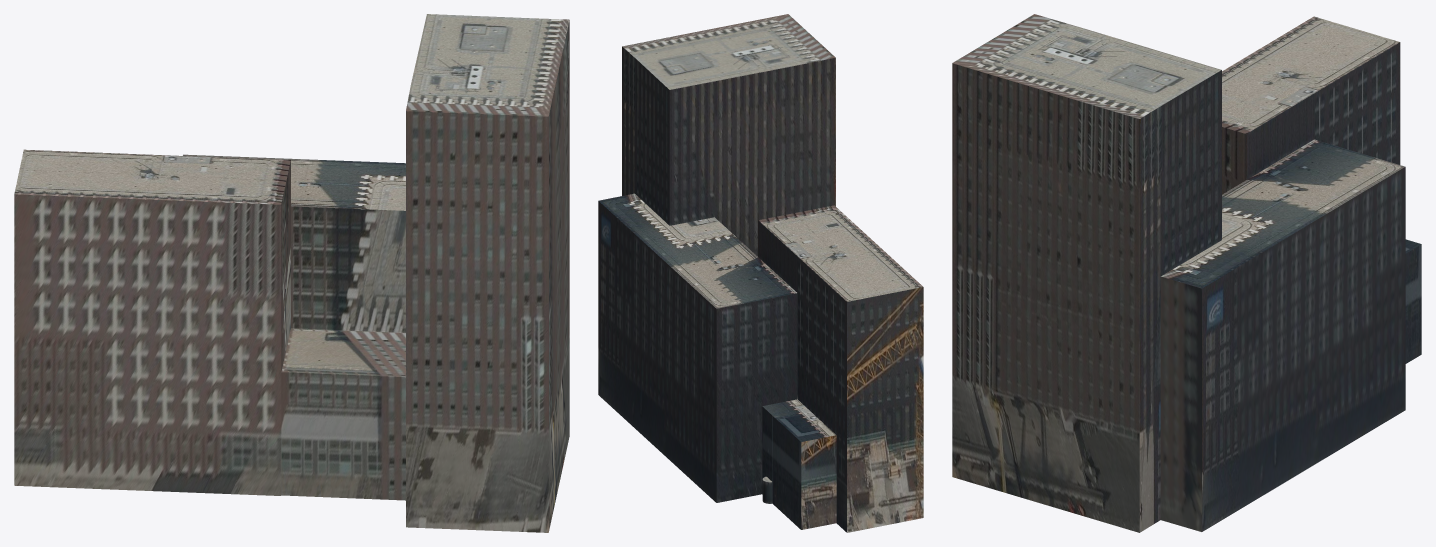
3 views of the same model, side by side, from view 1: azimuth 30°, elevation 25°; view 2: azimuth 150°, elevation 25°; view 3: azimuth 270°, elevation 25° (orthographic). The views are drawn at different scales.
Parts seen in each view (by area): view 1: Z_UP; view 2: Z_UP; view 3: Z_UP.
Boxes of the visible parts, left/top/right/bottom form: Z_UP: left=14, top=14, right=569, bottom=532; Z_UP: left=598, top=14, right=923, bottom=532; Z_UP: left=952, top=14, right=1421, bottom=532.
Size of the model in its own units: 77.98 by 66.31 by 68.2.
21 materials, 20 textured.
